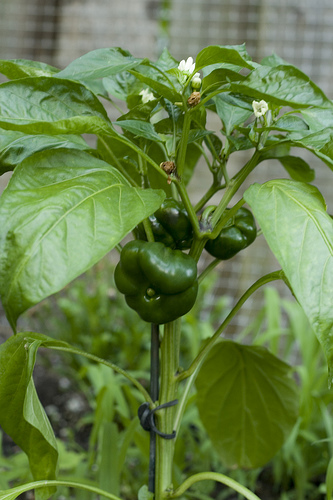capsicum: (115, 240, 196, 325), (132, 199, 195, 251), (205, 205, 259, 262)
